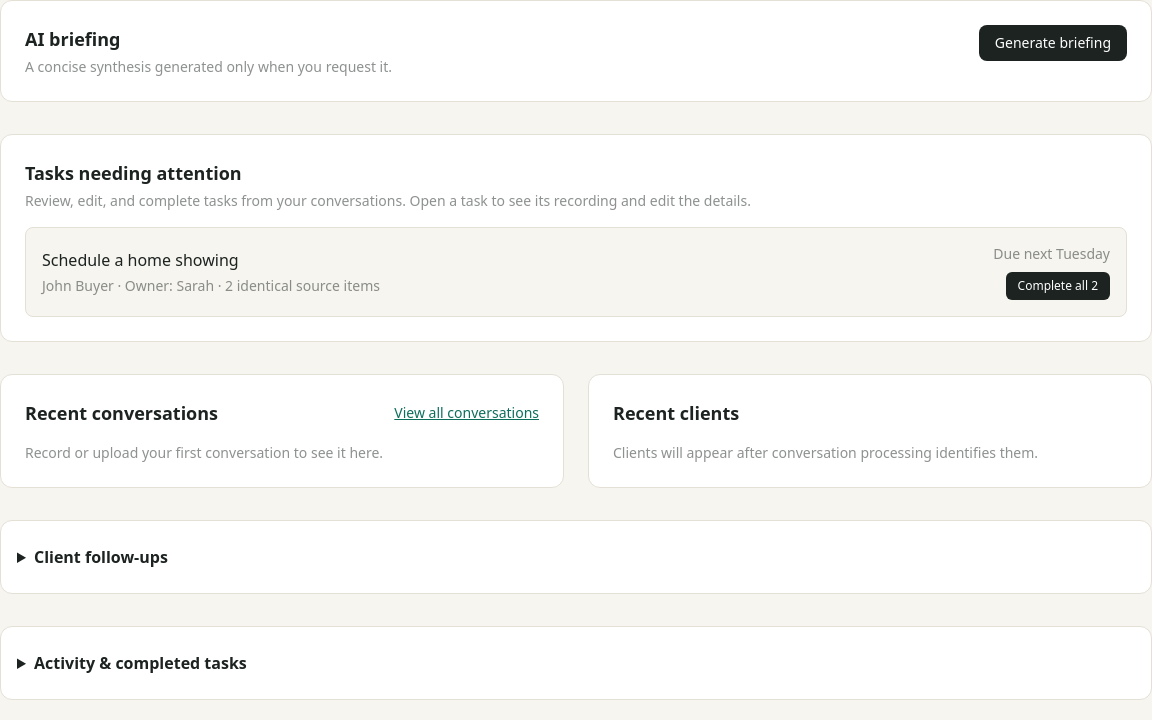
Scenario: SummaryCards interactions › completes every source item in an identical group
Click the button "Complete all 2": (1058, 286) [1006,272,1110,300]
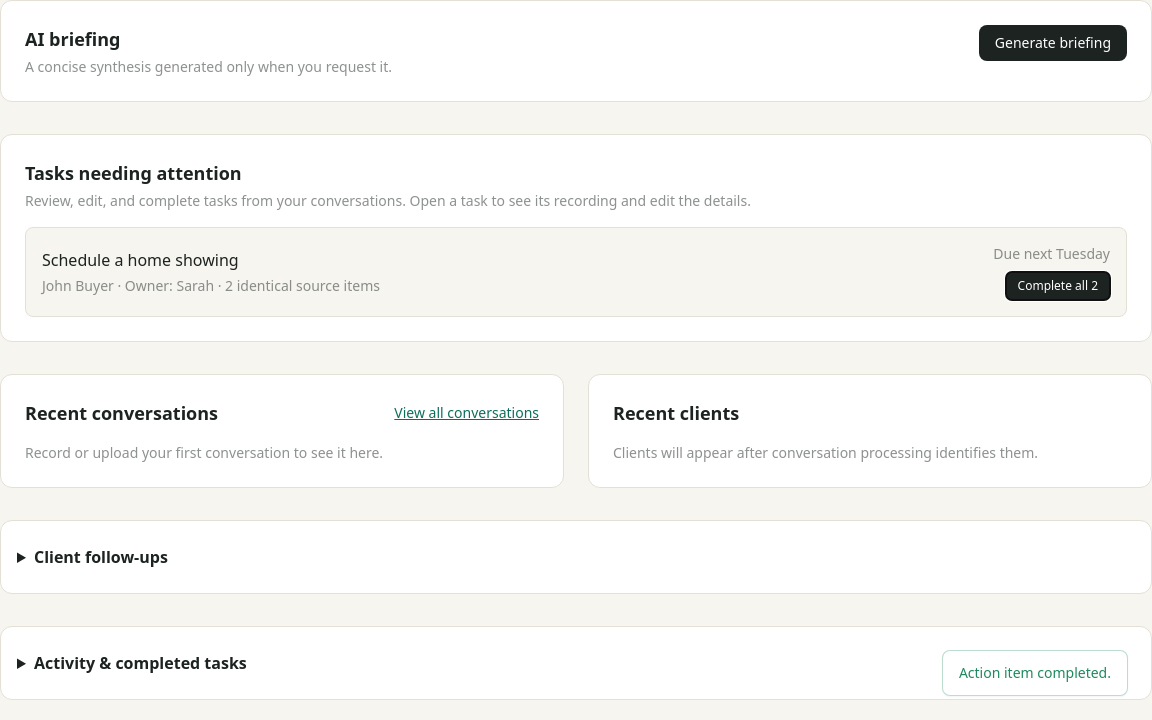
Result: the message reads "Action item completed." at [959,663,1111,682]
